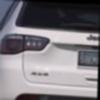License_Plate: (78, 50, 99, 70)
